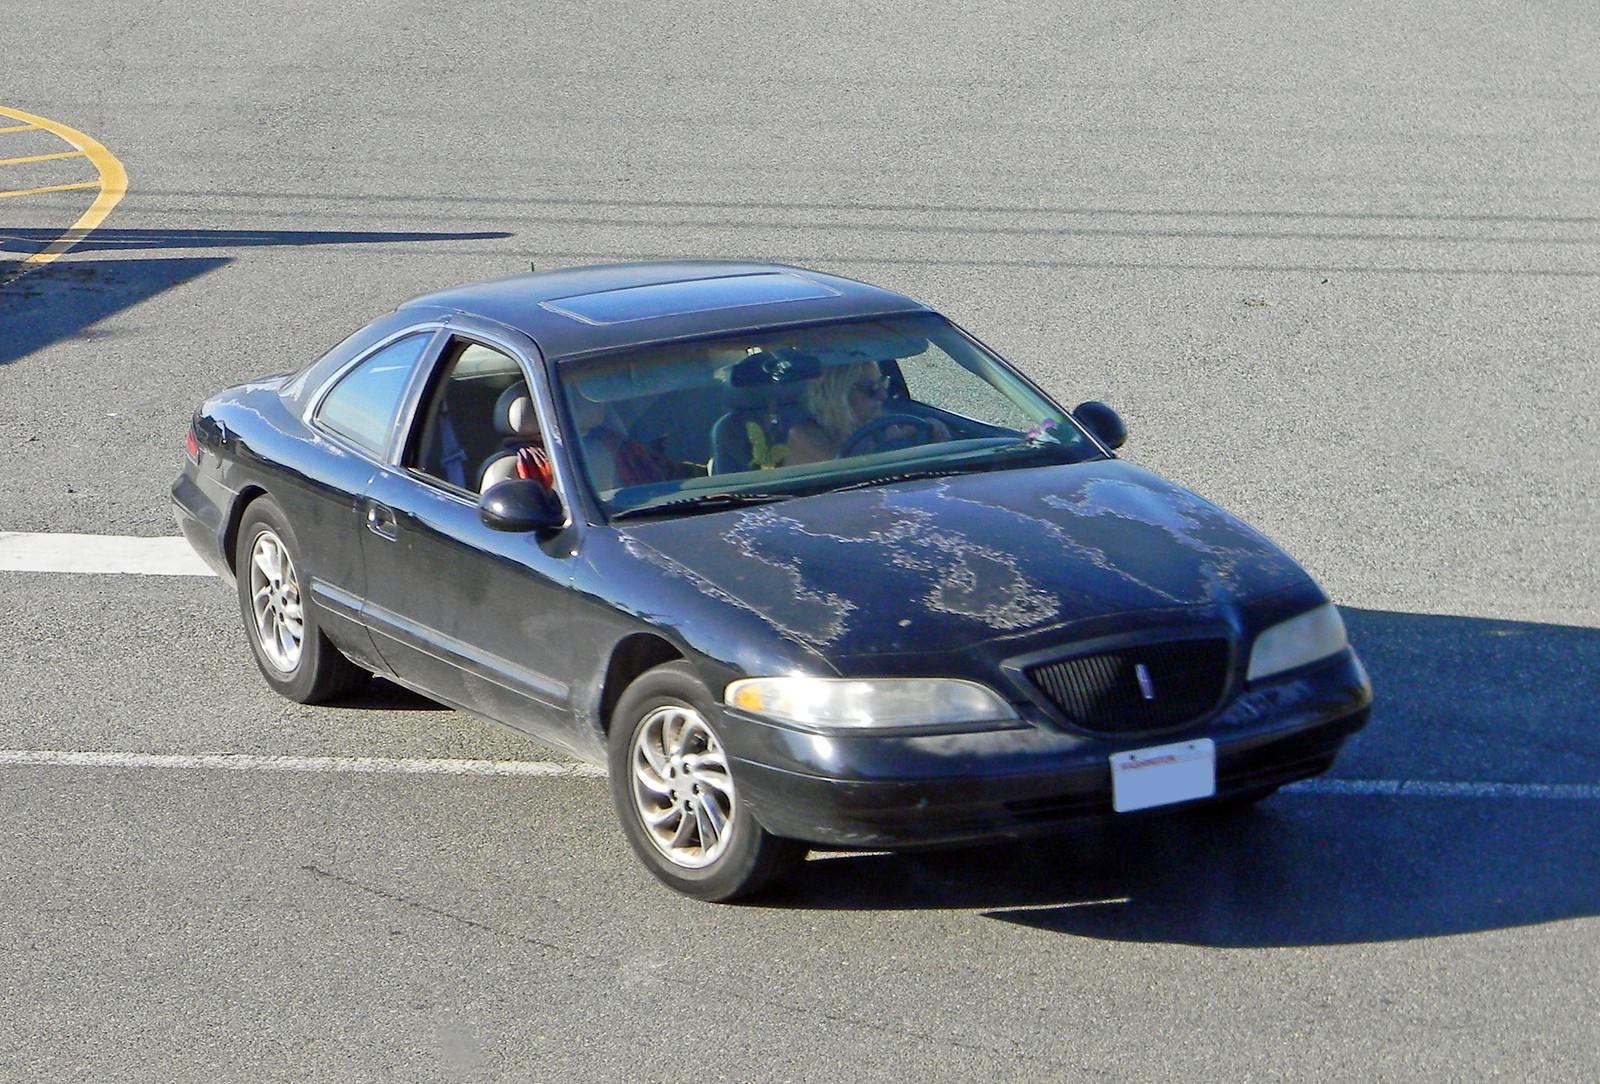bonnet-dent: (707, 468, 1307, 670)
